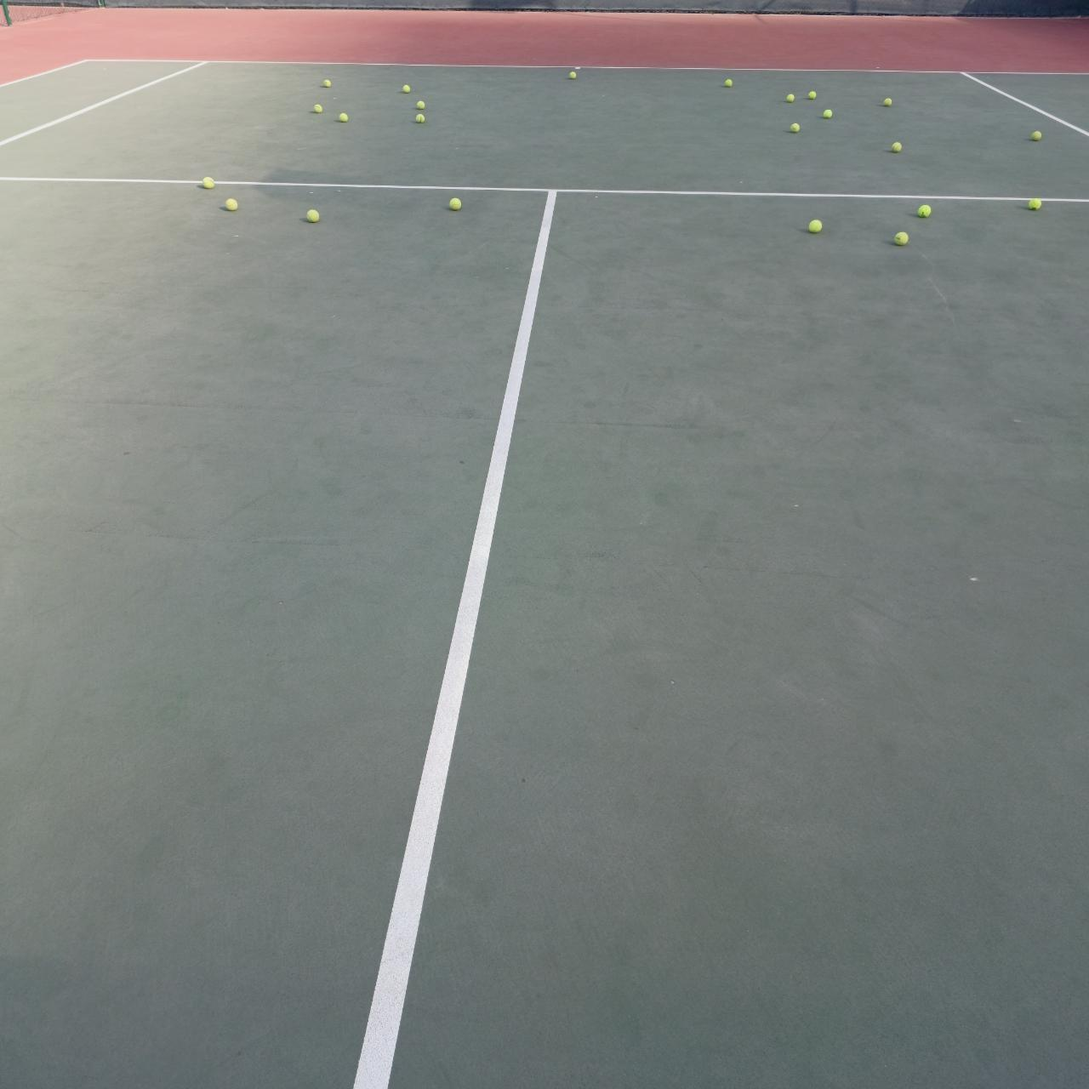tennis-ball: (894, 231, 909, 245), (305, 209, 320, 222), (448, 197, 462, 210), (225, 197, 238, 211), (808, 220, 822, 233), (918, 204, 931, 218), (1028, 199, 1042, 211), (202, 176, 214, 189), (892, 142, 902, 153), (790, 123, 800, 133), (1031, 131, 1041, 141), (339, 113, 348, 123), (314, 104, 323, 114), (416, 114, 425, 124), (823, 109, 832, 119), (401, 85, 410, 94), (416, 101, 425, 110), (808, 91, 817, 100), (724, 79, 733, 87), (786, 94, 794, 103), (884, 98, 892, 107), (323, 80, 331, 88), (569, 71, 577, 79)
